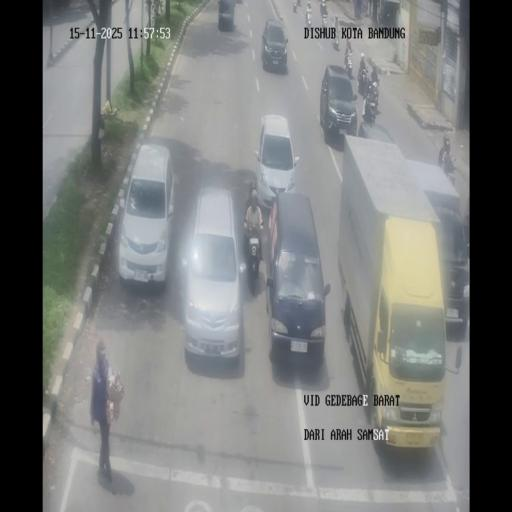3: (338, 138, 452, 446)
car: (181, 185, 245, 362), (264, 190, 328, 364), (118, 142, 174, 286), (426, 195, 470, 329), (255, 113, 298, 210), (319, 64, 356, 142), (260, 18, 288, 72), (358, 120, 395, 142), (217, 0, 236, 31)
truck: (244, 225, 262, 293), (439, 150, 457, 185), (362, 90, 376, 122), (357, 65, 369, 96), (344, 45, 353, 78), (320, 1, 328, 27), (370, 60, 379, 82), (332, 27, 340, 50), (305, 6, 312, 28), (376, 2, 382, 23), (361, 0, 368, 17), (300, 1, 306, 19), (331, 14, 337, 30), (293, 0, 297, 13)
